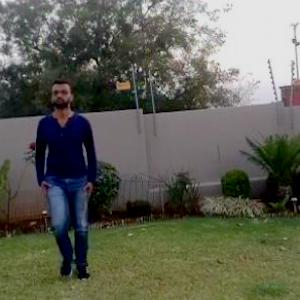follow: (34, 70, 113, 289)
